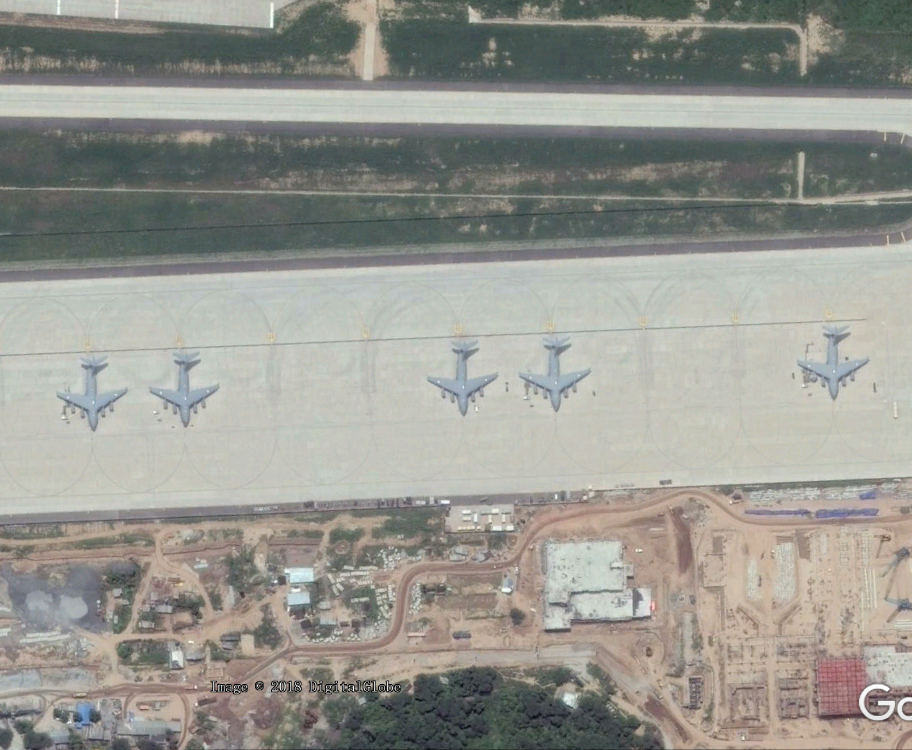A3: (53, 353, 131, 440), (144, 345, 222, 432), (425, 332, 503, 419), (517, 332, 595, 419), (797, 321, 875, 408)
